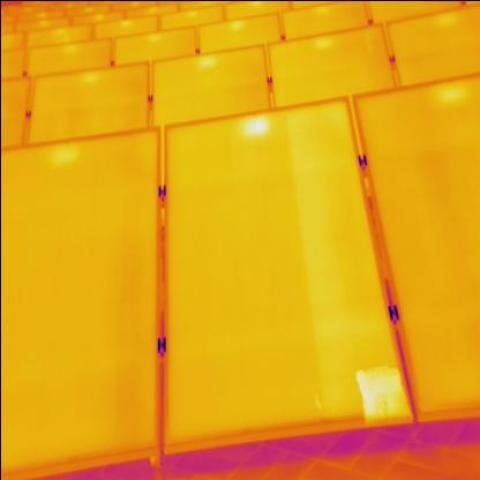fault: (352, 368, 401, 414), (239, 115, 266, 134)
